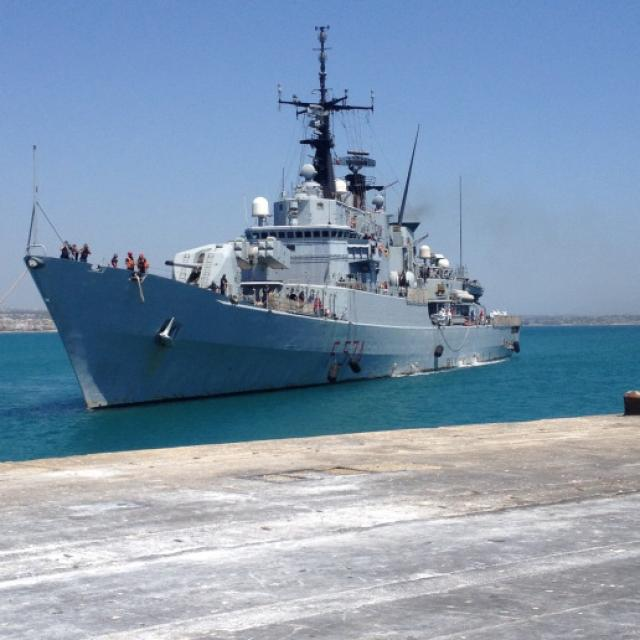Fragata: (17, 16, 525, 421)
